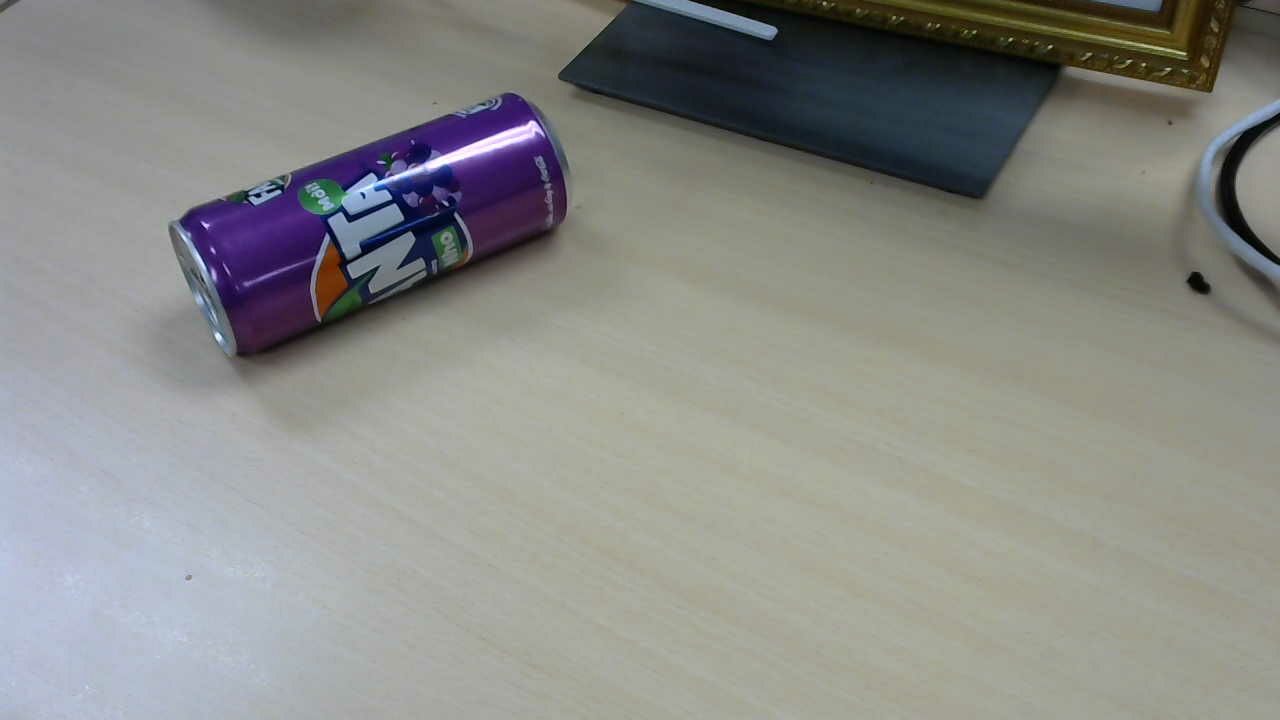Fanta: (174, 97, 577, 360)
